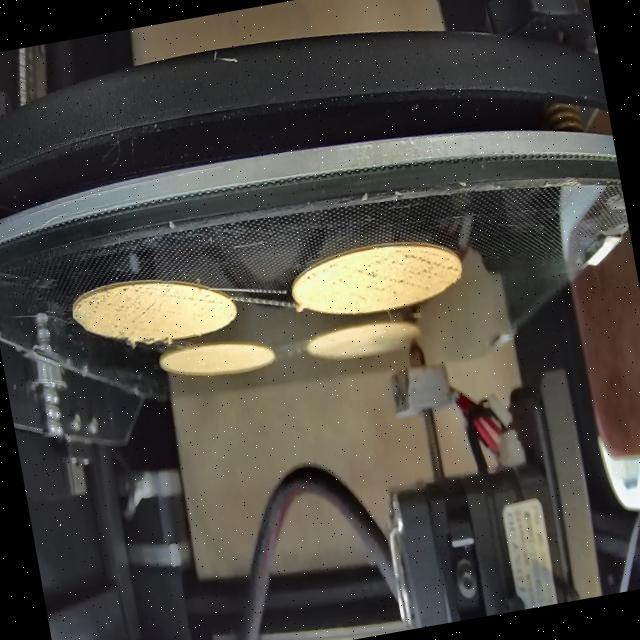under_extrusion: (354, 242, 461, 304), (87, 285, 161, 336), (170, 281, 226, 316), (296, 256, 343, 289)
